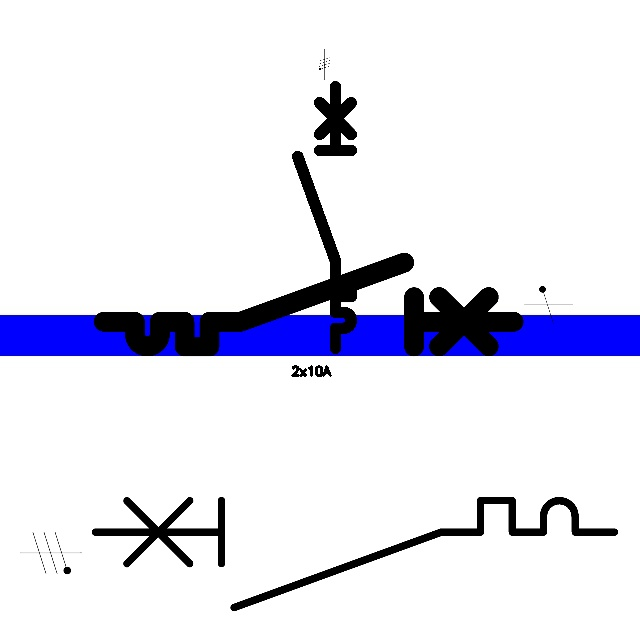interruptor_termomagnetico: (81, 487, 627, 620), (93, 252, 524, 357), (291, 80, 358, 355)
